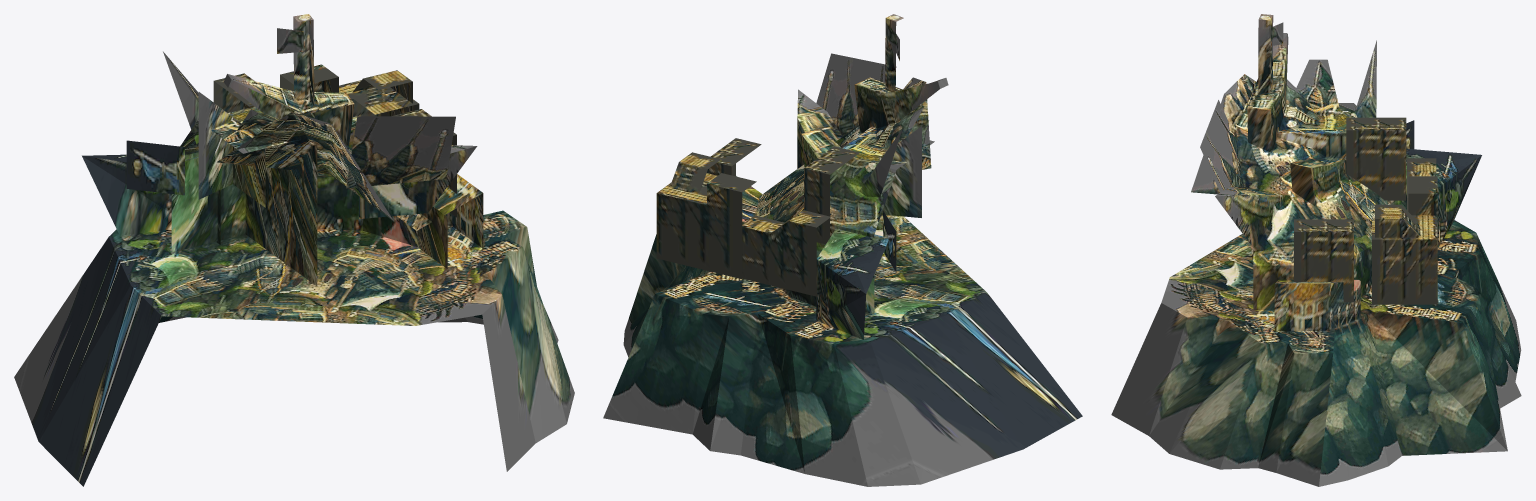
The model's file is F_GuildFortress_02.fbx.
3 renders of one model, left to right at view 1: azimuth 30°, elevation 25°; view 2: azimuth 150°, elevation 25°; view 3: azimuth 270°, elevation 25°, orthographic. The views are drawn at different scales.
Visible parts, largest first — view 1: F_GuildFortress_02, T_BuildForm_01, T_BuildForm_02 (4); view 2: F_GuildFortress_02, T_BuildForm_01, T_BuildForm_03, T_BuildForm_02 (4), T_BuildForm_02 (3); view 3: F_GuildFortress_02, T_BuildForm_01, T_BuildForm_02 (4), T_BuildForm_02 (3), T_BuildForm_03.
Boxes of the visible parts, <box> form: F_GuildFortress_02: <box>14,14,574,486</box>; T_BuildForm_01: <box>280,64,419,117</box>; T_BuildForm_02 (4): <box>213,73,254,112</box>; F_GuildFortress_02: <box>603,14,1082,486</box>; T_BuildForm_01: <box>656,152,756,278</box>; T_BuildForm_03: <box>742,210,830,296</box>; T_BuildForm_02 (4): <box>804,146,859,244</box>; T_BuildForm_02 (3): <box>707,138,761,176</box>; F_GuildFortress_02: <box>1111,14,1521,486</box>; T_BuildForm_01: <box>1372,176,1437,304</box>; T_BuildForm_02 (4): <box>1346,117,1406,200</box>; T_BuildForm_02 (3): <box>1294,219,1353,302</box>; T_BuildForm_03: <box>1407,158,1436,211</box>.
Bounding box in the file's own units: 2.45 × 1.92 × 2.03.
2 materials, 2 textured.
